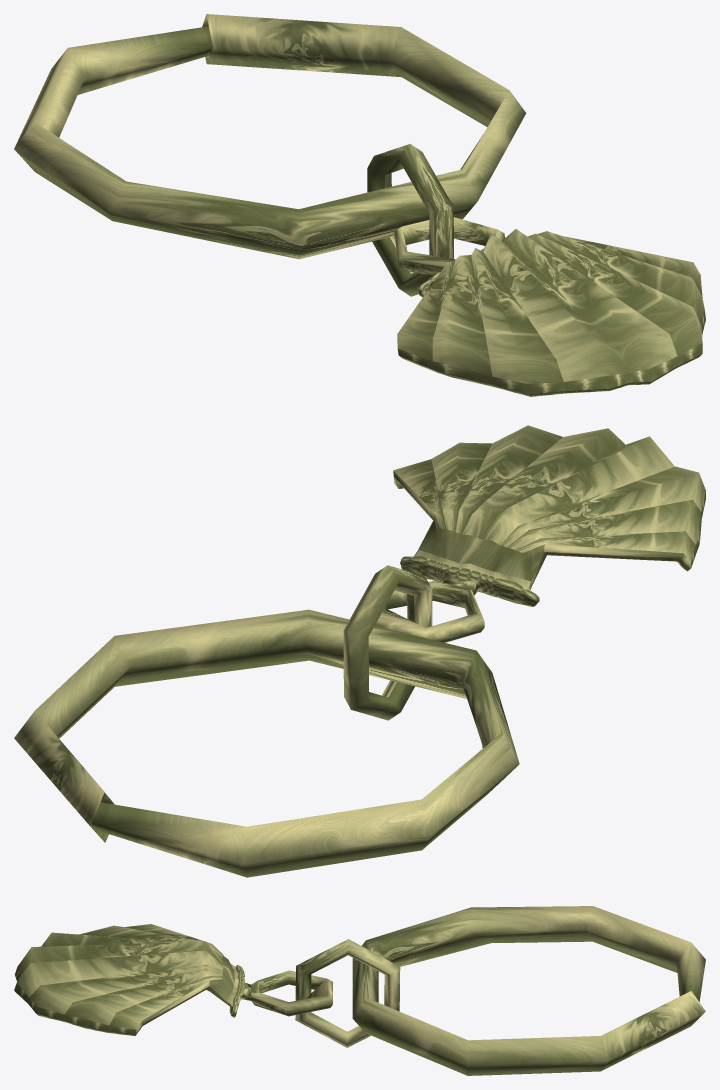
The model's file is bethhoopearing.fbx.
3 renders of one model, top to bottom at view 1: azimuth 30°, elevation 25°; view 2: azimuth 150°, elevation 25°; view 3: azimuth 270°, elevation 25°, orthographic. The views are drawn at different scales.
Parts seen in each view (by area): view 1: pTorus1, Shell, pTorus4; view 2: pTorus1, Shell, pTorus4; view 3: pTorus1, Shell, pTorus4.
Boxes of the visible parts, bbox=[...] form: pTorus1: bbox=[14, 14, 526, 259]; Shell: bbox=[394, 217, 705, 396]; pTorus4: bbox=[367, 144, 453, 296]; pTorus1: bbox=[14, 609, 519, 877]; Shell: bbox=[375, 425, 705, 642]; pTorus4: bbox=[343, 565, 432, 720]; pTorus1: bbox=[352, 906, 705, 1075]; Shell: bbox=[14, 924, 332, 1035]; pTorus4: bbox=[295, 939, 400, 1047].
Size of the model in its own units: 0.6401 by 0.2222 by 1.28.
